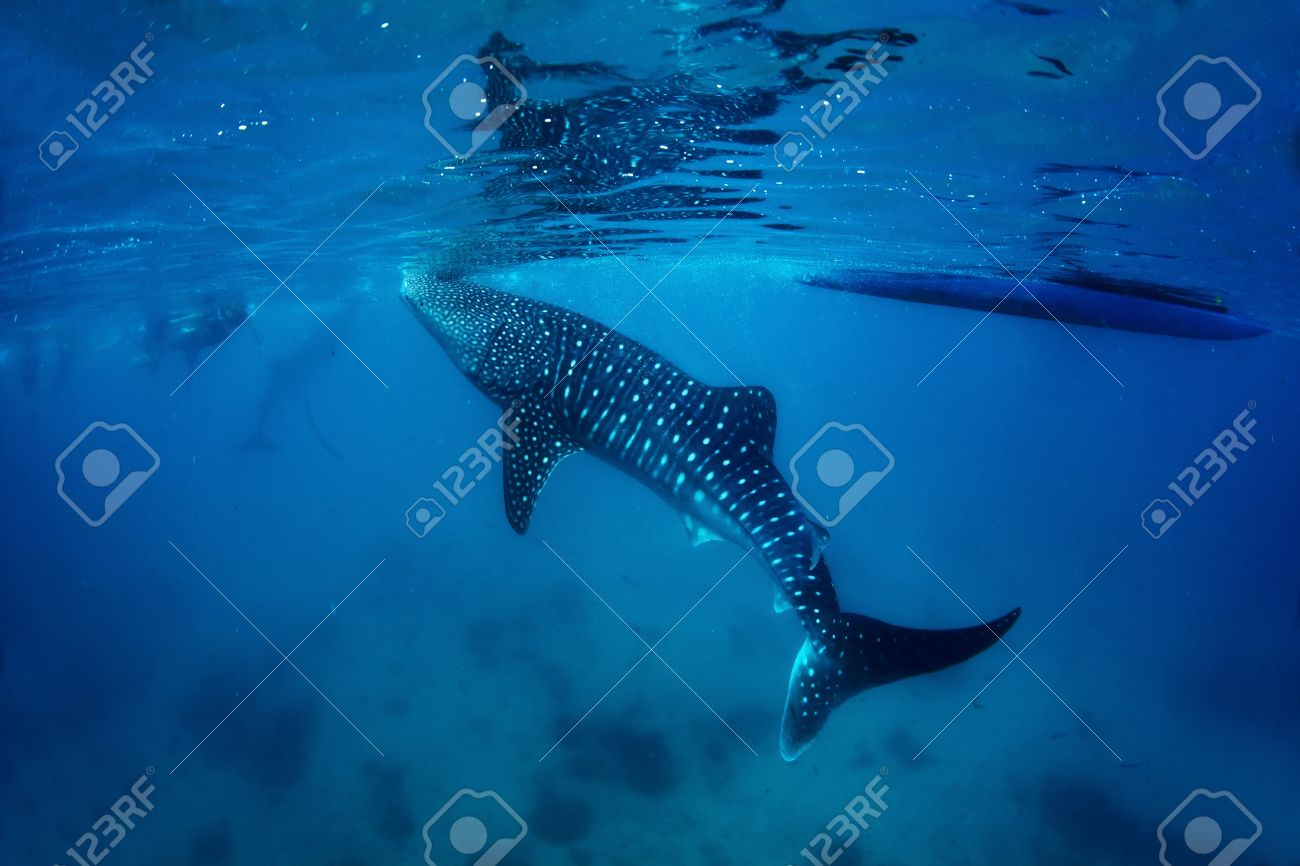Rhincodon_typusw: (330, 236, 1043, 803)
